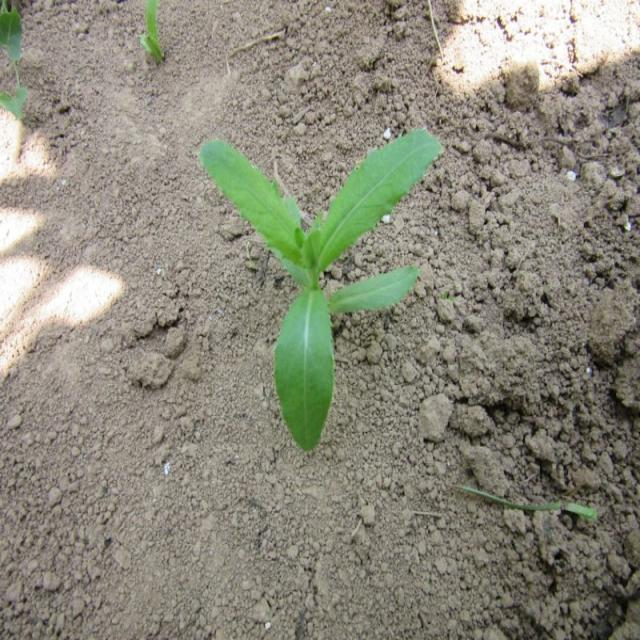field_thistle: (169, 114, 445, 445)
